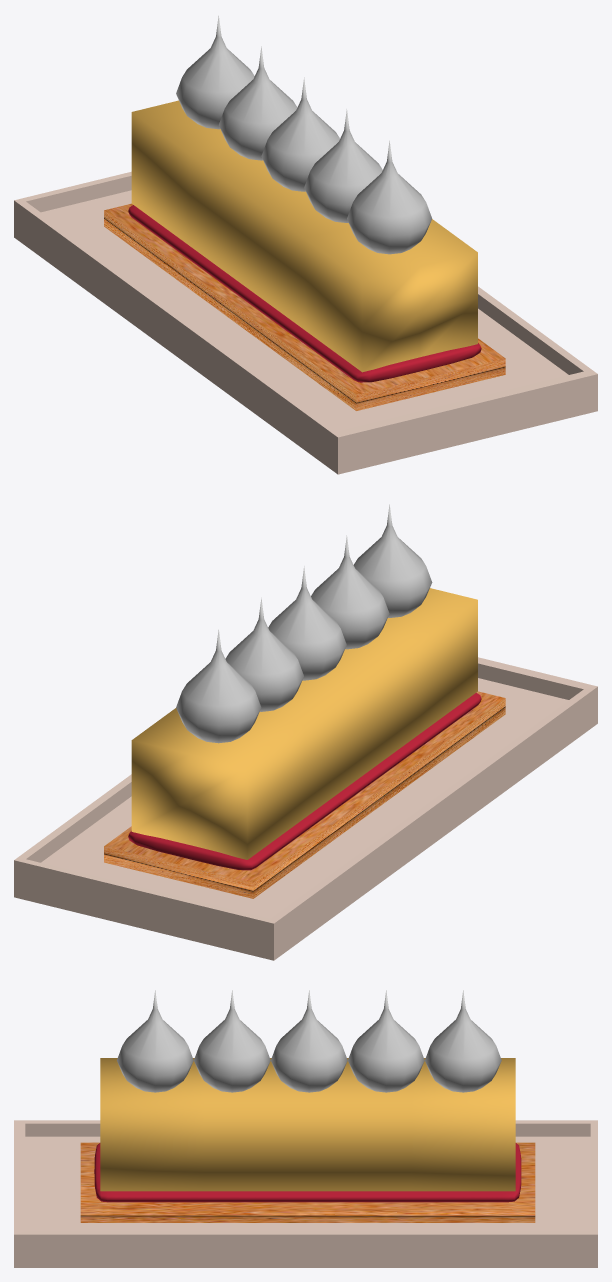
The model's file is lemon tart cake.fbx.
3 views of the same model, one above another, from view 1: azimuth 30°, elevation 25°; view 2: azimuth 150°, elevation 25°; view 3: azimuth 270°, elevation 25° (orthographic). The views are drawn at different scales.
Visible parts, largest first — view 1: plate, lemon, meringue, base, strawberry; view 2: plate, lemon, meringue, base, strawberry; view 3: lemon, plate, meringue, base, strawberry.
Part boxes in pixels (<box>): plate: <box>14,171,597,474</box>; lemon: <box>131,100,477,372</box>; meringue: <box>176,15,432,254</box>; base: <box>104,203,505,410</box>; strawberry: <box>128,205,481,382</box>; plate: <box>14,657,597,960</box>; lemon: <box>131,588,477,859</box>; meringue: <box>176,504,432,743</box>; base: <box>104,691,505,898</box>; strawberry: <box>128,692,481,870</box>; lemon: <box>100,1058,515,1191</box>; plate: <box>14,1120,597,1267</box>; meringue: <box>117,990,501,1092</box>; base: <box>80,1142,535,1222</box>; strawberry: <box>94,1143,521,1202</box>.
Bounding box in the file's own units: 139 × 126 × 301.
